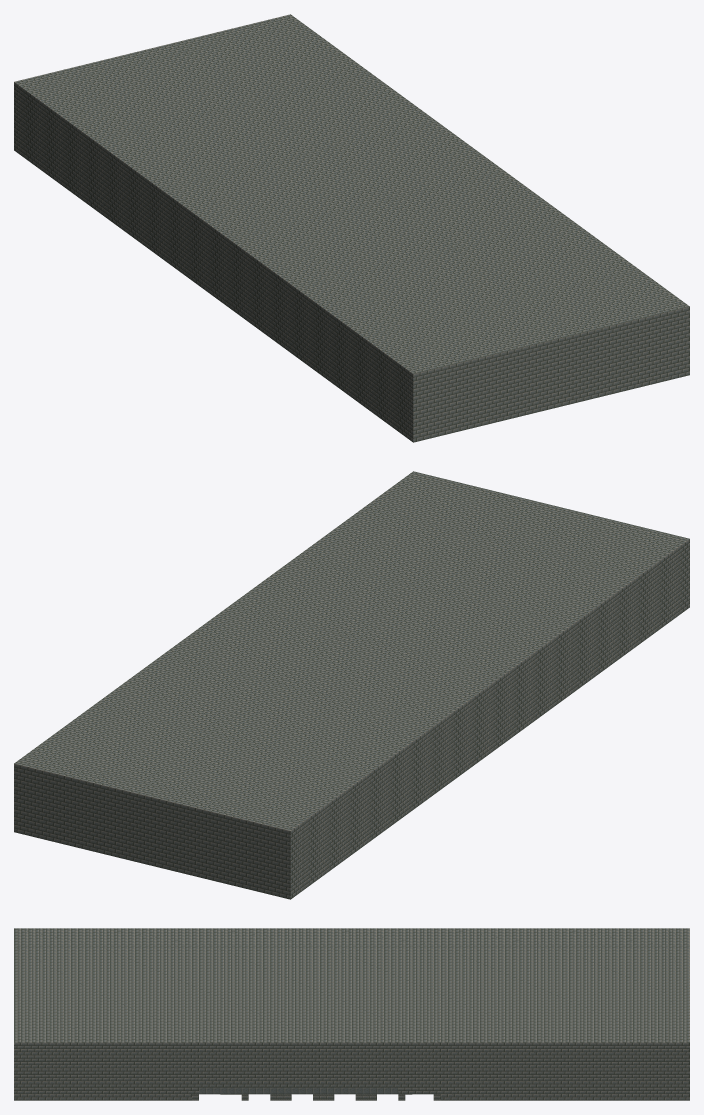
File: minecraft.obj
3 renders of one model, top to bottom at view 1: azimuth 30°, elevation 25°; view 2: azimuth 150°, elevation 25°; view 3: azimuth 270°, elevation 25°, orthographic. The views are drawn at different scales.
Size of the model in its own units: 38 by 9 by 95.
